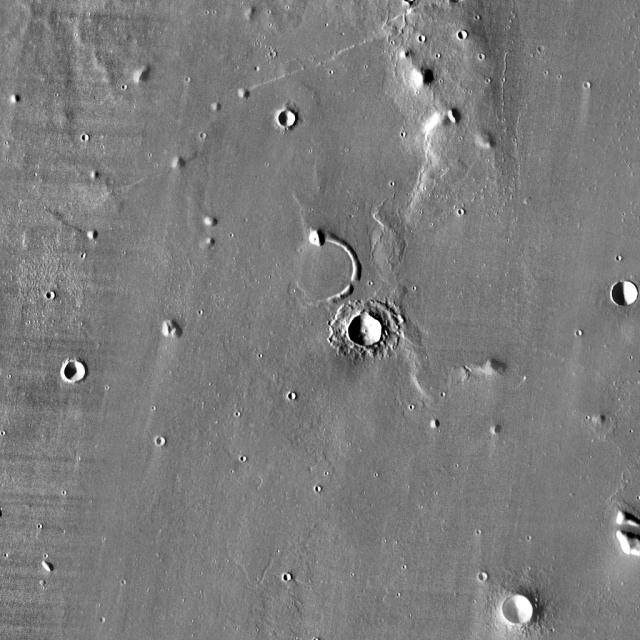crater: (289, 236, 359, 303), (351, 313, 386, 346), (508, 596, 535, 622), (613, 282, 637, 306), (67, 361, 89, 382), (282, 109, 298, 125), (456, 30, 466, 40), (155, 437, 165, 446), (288, 392, 298, 400), (46, 292, 54, 300), (479, 573, 487, 581), (418, 34, 426, 41), (283, 574, 291, 581), (537, 44, 544, 51), (200, 133, 208, 139), (478, 53, 484, 59), (82, 134, 88, 140)
